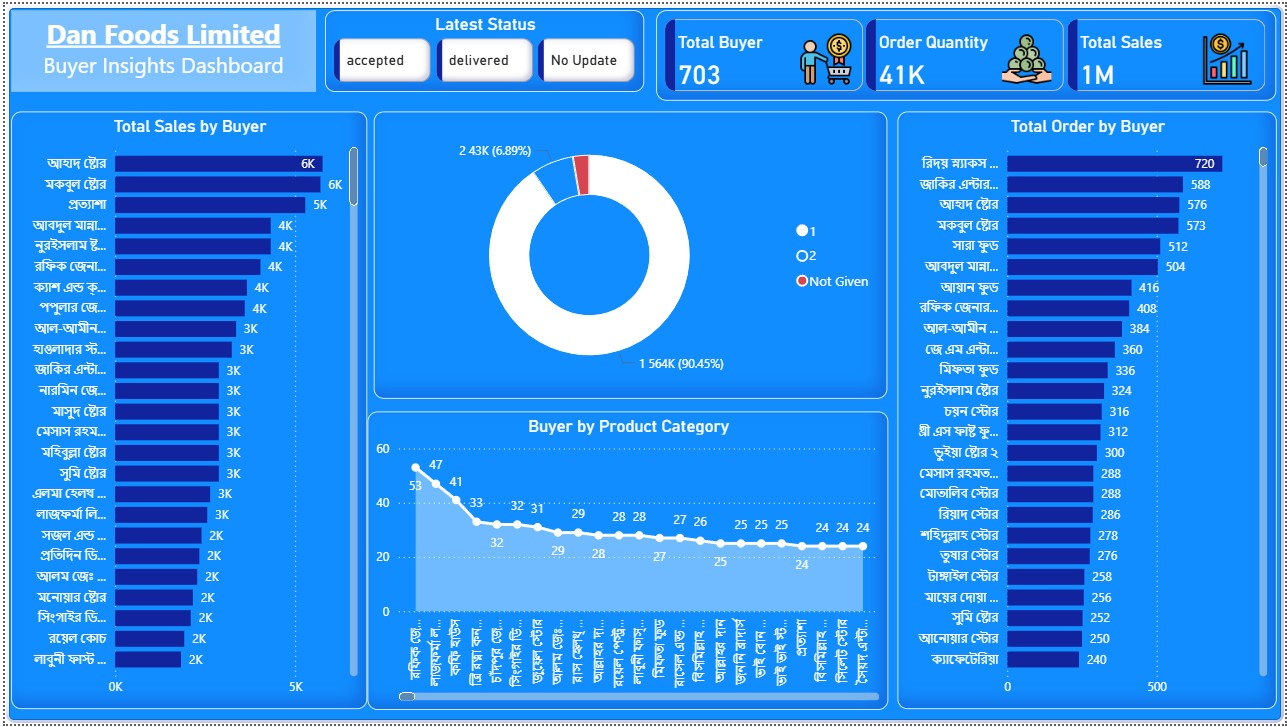

The dashboard page shown, as its layout file describes it:
{"tool":"powerbi","page":{"name":"Buyer Insights Dashboard","canvas":[1280,720],"ordinal":1},"visuals":[{"type":"shape","box":[0,0,1280,720],"z":0},{"type":"textbox","box":[6.1,6.1,304.5,81.9],"z":1000},{"type":"areaChart","title":"Buyer by Product Category","fields":{"Category":["Analytics Data json.buyer_department_name"],"Y":["Analytics Data json.product_category_name"]},"box":[362,407.2,520.9,298.4],"z":2000},{"type":"clusteredBarChart","title":"Total Order by Buyer","fields":{"Category":["Analytics Data json.buyer_department_name"],"Y":["Analytics Data json.order_qty"]},"box":[892.7,107.6,379.1,598],"z":5000},{"type":"barChart","title":"Total Sales by Buyer","fields":{"Y":["Analytics Data json.amount"],"Category":["Analytics Data json.buyer_department_name"]},"box":[6.1,107.6,355.8,598],"z":6000},{"type":"donutChart","title":"Top 5 Sales by Category","fields":{"Y":["Analytics Data json.amount"],"Category":["Analytics Data json.buyer_dept_loc_type_id"]},"box":[369.3,107.6,513.6,287.4],"z":7000},{"type":"advancedSlicerVisual","title":"Latest Status","fields":{"Values":["Analytics Data json.latest_status"]},"box":[320.4,6.1,319.2,81.9],"z":8000},{"type":"cardVisual","fields":{"Data":["Analytics Data json.buyer_department_name","Analytics Data json.order_qty","Analytics Data json.amount"]},"box":[651.8,6.1,620,90.5],"z":9000}]}

Visuals, with their boxes in screenshot pixels (x1, y1, x2, y2), scaled from the page's 1280x720 canvas onto the 1287x727 screenshot:
shape: (x1=0, y1=0, x2=1286, y2=726)
textbox: (x1=6, y1=6, x2=312, y2=89)
"Buyer by Product Category" areaChart: (x1=364, y1=411, x2=888, y2=712)
"Total Order by Buyer" clusteredBarChart: (x1=898, y1=109, x2=1279, y2=712)
"Total Sales by Buyer" barChart: (x1=6, y1=109, x2=364, y2=712)
"Top 5 Sales by Category" donutChart: (x1=371, y1=109, x2=888, y2=399)
"Latest Status" advancedSlicerVisual: (x1=322, y1=6, x2=643, y2=89)
cardVisual - Analytics Data json.buyer_department_name x Analytics Data json.order_qty: (x1=655, y1=6, x2=1279, y2=98)
